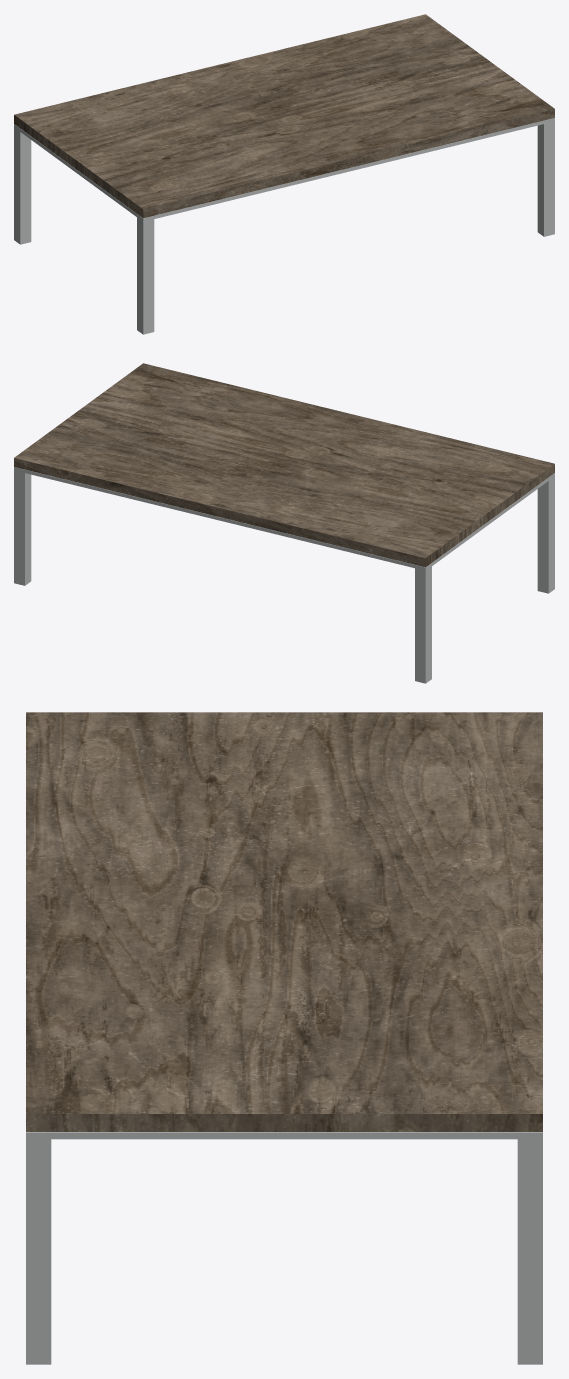
The model's file is table.glb.
The picture shows the model from 3 angles, top to bottom: view 1: azimuth 30°, elevation 25°; view 2: azimuth 150°, elevation 25°; view 3: azimuth 270°, elevation 25°; orthographic projection. The views are drawn at different scales.
Parts seen in each view (by area): view 1: house_interior:Box032, house_interior:Box033; view 2: house_interior:Box032, house_interior:Box033; view 3: house_interior:Box032, house_interior:Box033.
Part boxes in pixels (box(x1,y1,x2,y2)): house_interior:Box032: box(14, 14, 554, 218); house_interior:Box033: box(14, 118, 554, 334); house_interior:Box032: box(14, 363, 554, 567); house_interior:Box033: box(14, 467, 554, 683); house_interior:Box032: box(26, 712, 542, 1131); house_interior:Box033: box(26, 1132, 542, 1364).
Size of the model in its own units: 4.59 by 1.34 by 2.5.
Materials: 2 (2 with a texture image).
